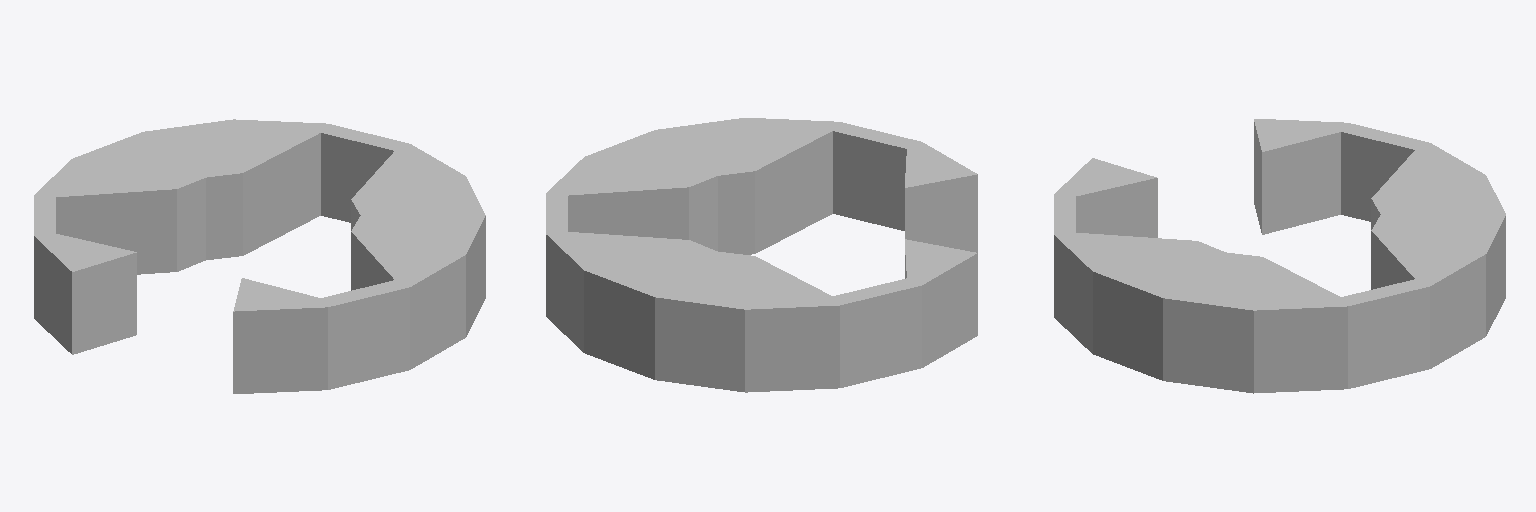
Rendered from bumper_cage_v4.obj.
3 renders of one model, left to right at view 1: azimuth 30°, elevation 25°; view 2: azimuth 150°, elevation 25°; view 3: azimuth 270°, elevation 25°, orthographic.
Parts seen in each view (by area): view 1: Cylinder.003_Cylinder.007; view 2: Cylinder.003_Cylinder.007; view 3: Cylinder.003_Cylinder.007.
Part boxes in pixels (x1,y1,x2,y2): Cylinder.003_Cylinder.007: (34, 119, 485, 393); Cylinder.003_Cylinder.007: (546, 118, 977, 392); Cylinder.003_Cylinder.007: (1054, 119, 1505, 393).
Bounding box in the file's own units: 1.99 × 0.4 × 1.98.